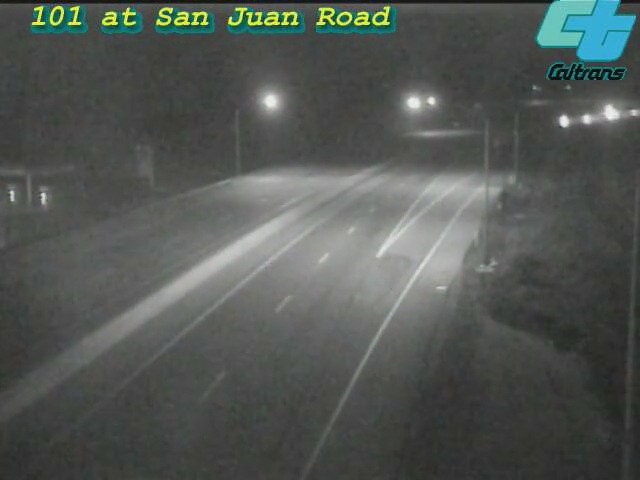vehicle: (561, 95, 611, 145), (539, 97, 589, 147), (582, 88, 632, 138), (591, 89, 640, 139), (610, 87, 640, 137)
